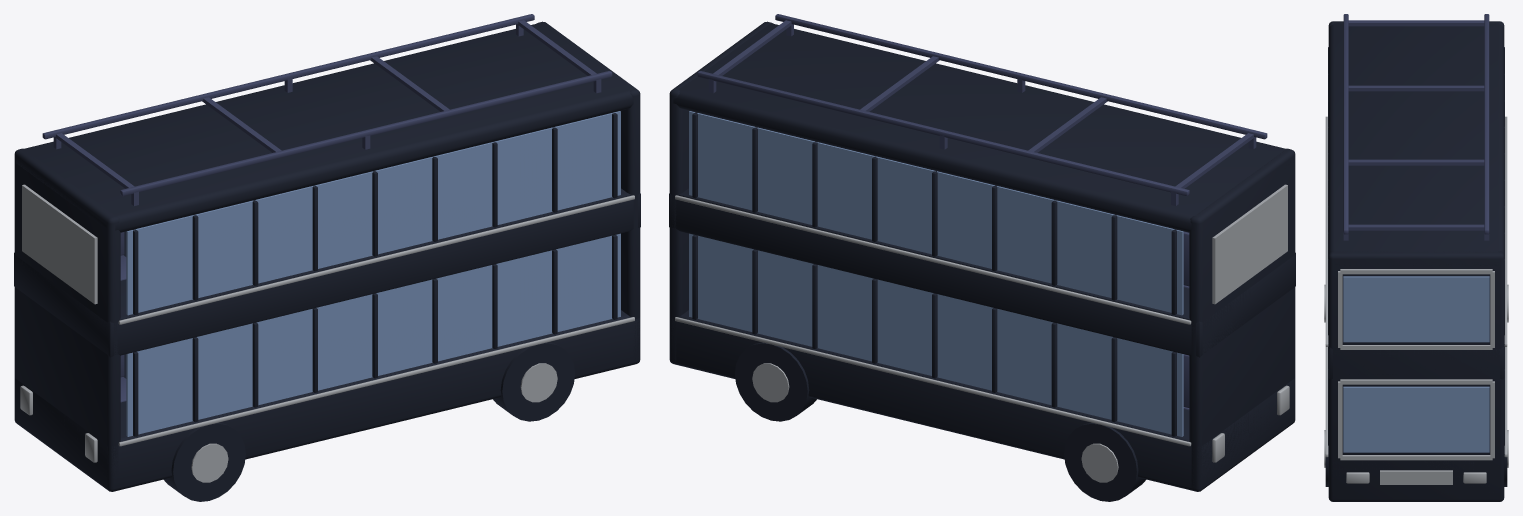
The model's file is bus.glb.
3 renders of one model, left to right at view 1: azimuth 30°, elevation 25°; view 2: azimuth 150°, elevation 25°; view 3: azimuth 270°, elevation 25°, orthographic. The views are drawn at different scales.
Parts seen in each view (by area): view 1: bus.body, bus.glass, bus.trim, bus.rack, bus.frame, bus.wheels, bus.hubs; view 2: bus.body, bus.glass, bus.trim, bus.rack, bus.frame, bus.wheels, bus.hubs; view 3: bus.body, bus.glass, bus.trim, bus.rack, bus.frame, bus.hubs, bus.wheels.
Part boxes in pixels (x1,y1,x2,y2): bus.body: (14,21,640,491); bus.glass: (126,111,620,436); bus.trim: (20,184,634,462); bus.rack: (42,14,612,205); bus.frame: (133,113,617,436); bus.wheels: (163,342,575,501); bus.hubs: (191,363,557,482); bus.body: (669,21,1295,491); bus.glass: (689,111,1183,436); bus.trim: (675,184,1289,462); bus.rack: (697,14,1267,205); bus.frame: (692,112,1176,436); bus.wheels: (734,342,1146,501); bus.hubs: (752,363,1118,482); bus.body: (1328,21,1504,501); bus.glass: (1343,276,1489,452); bus.trim: (1325,116,1507,484); bus.rack: (1343,14,1489,240); bus.frame: (1328,47,1504,445); bus.hubs: (1324,284,1508,467); bus.wheels: (1325,446,1507,486).
Bounding box in the file's own units: 3.86 × 2.19 × 1.26.
